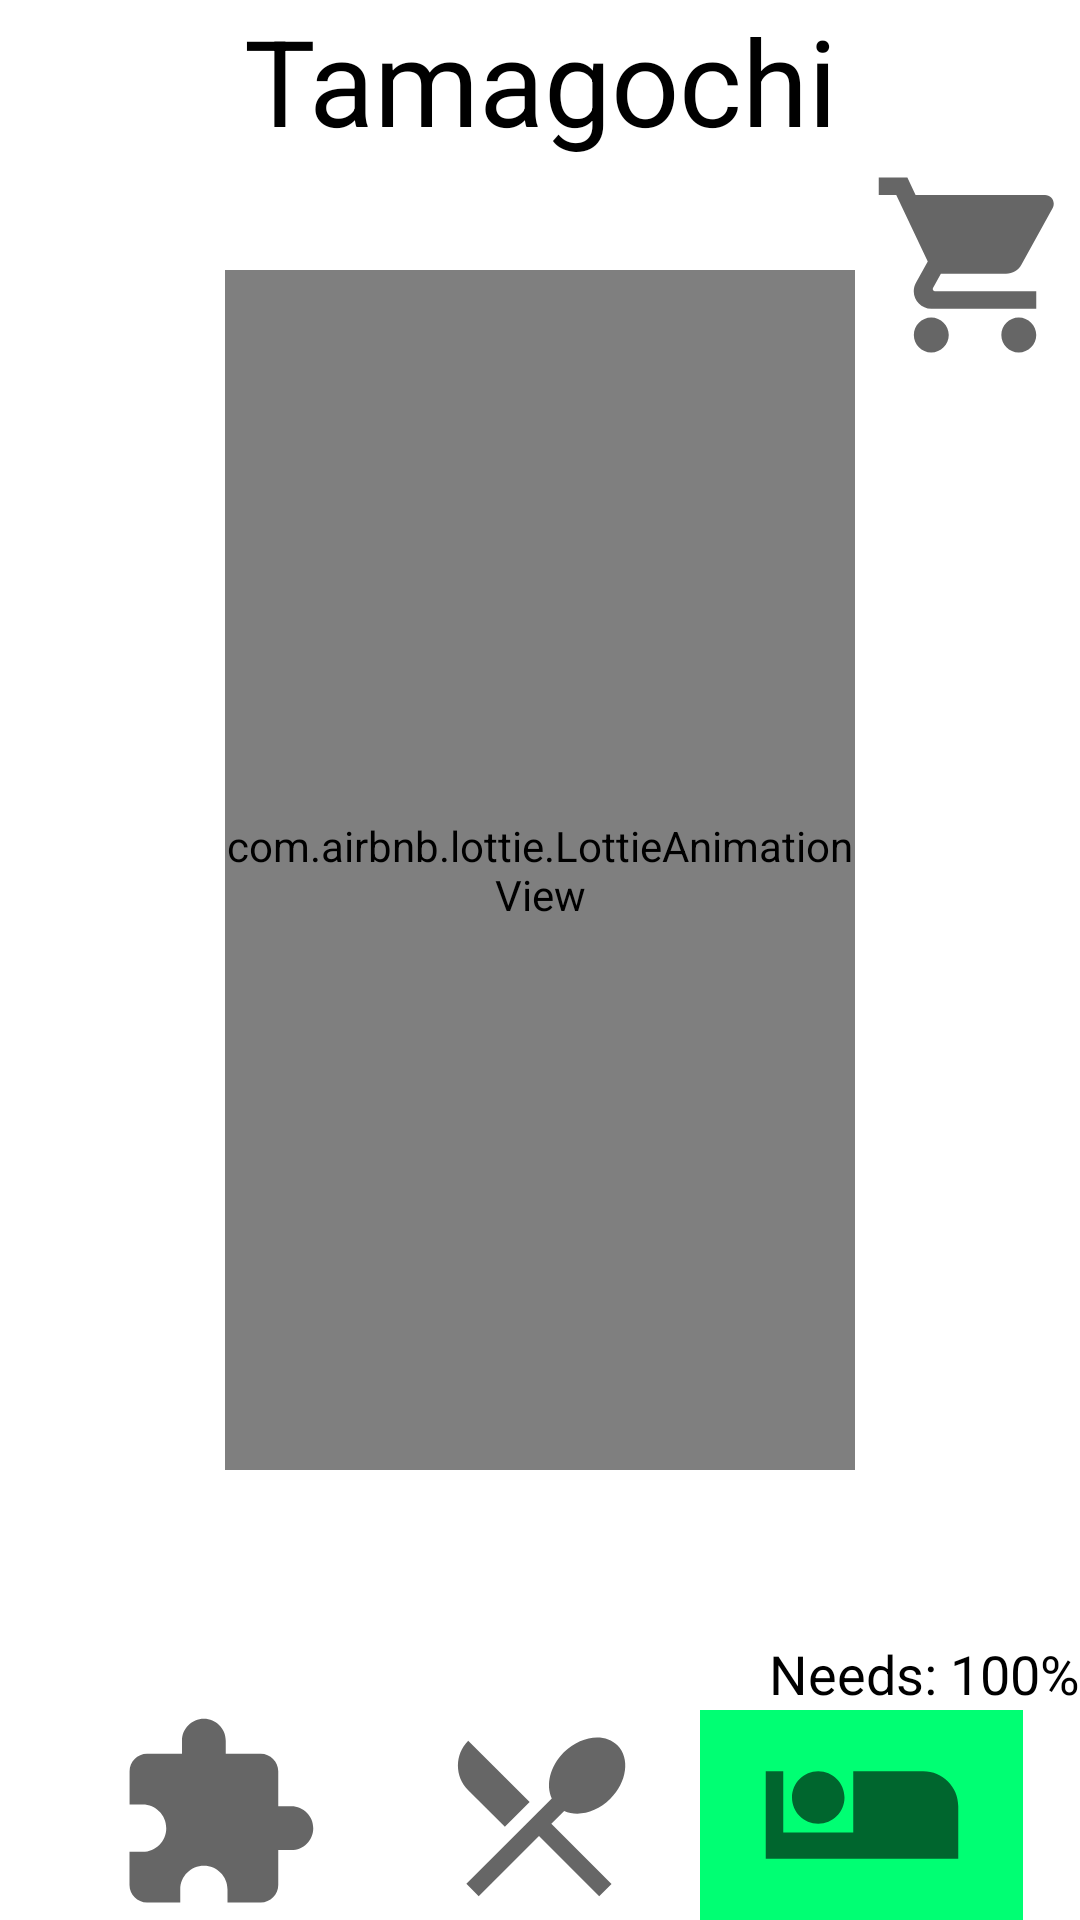

Locate icon controls on the screen. Image size 1080 × 1920, boxes as (x1, y1, x2, y2).
dining room: (458, 1737, 626, 1896)
play room: (129, 1718, 314, 1903)
shop: (878, 177, 1054, 353)
